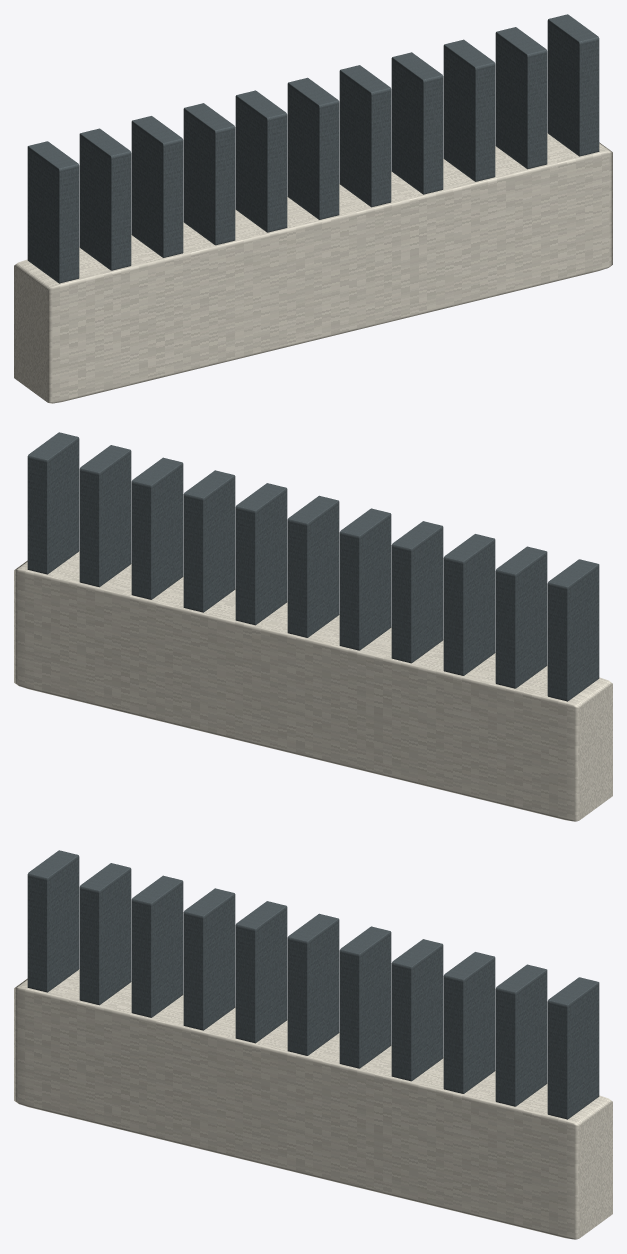
Rendered from air-grille.glb.
The picture shows the model from 3 angles, top to bottom: view 1: azimuth 30°, elevation 25°; view 2: azimuth 150°, elevation 25°; view 3: azimuth 330°, elevation 25°; orthographic projection.
Parts seen in each view (by area): view 1: rim, slat (×11); view 2: rim, slat (×11); view 3: rim, slat (×11).
Part boxes in pixels (x1,y1,x2,y2): rim: (14, 133, 612, 403); slat (×11): (27, 14, 599, 283); rim: (14, 551, 612, 821); slat (×11): (27, 432, 599, 701); rim: (14, 969, 612, 1239); slat (×11): (27, 850, 599, 1119).
Size of the model in its own units: 0.6 by 0.2364 by 0.065.
Materials: 2 (2 with a texture image).
